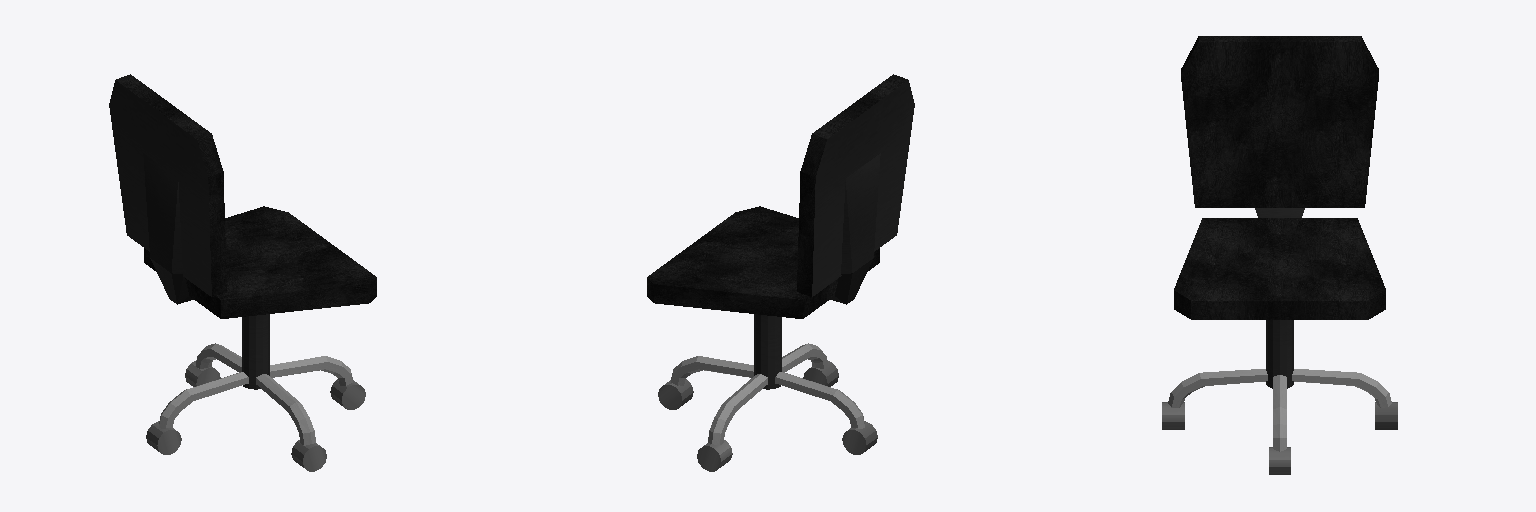
The picture shows the model from 3 angles: view 1: azimuth 30°, elevation 25°; view 2: azimuth 150°, elevation 25°; view 3: azimuth 270°, elevation 25°; orthographic projection.
Parts seen in each view (by area): view 1: skin; view 2: skin; view 3: skin.
Part boxes in pixels (left/top/right/bottom): skin: left=109, top=74, right=376, bottom=471; skin: left=647, top=74, right=914, bottom=471; skin: left=1162, top=36, right=1397, bottom=474.
Bounding box in the file's own units: 6.8 × 10.76 × 6.64.
Materials: 1 (1 with a texture image).